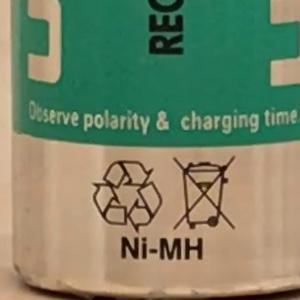keyword: (111, 227, 213, 270)
